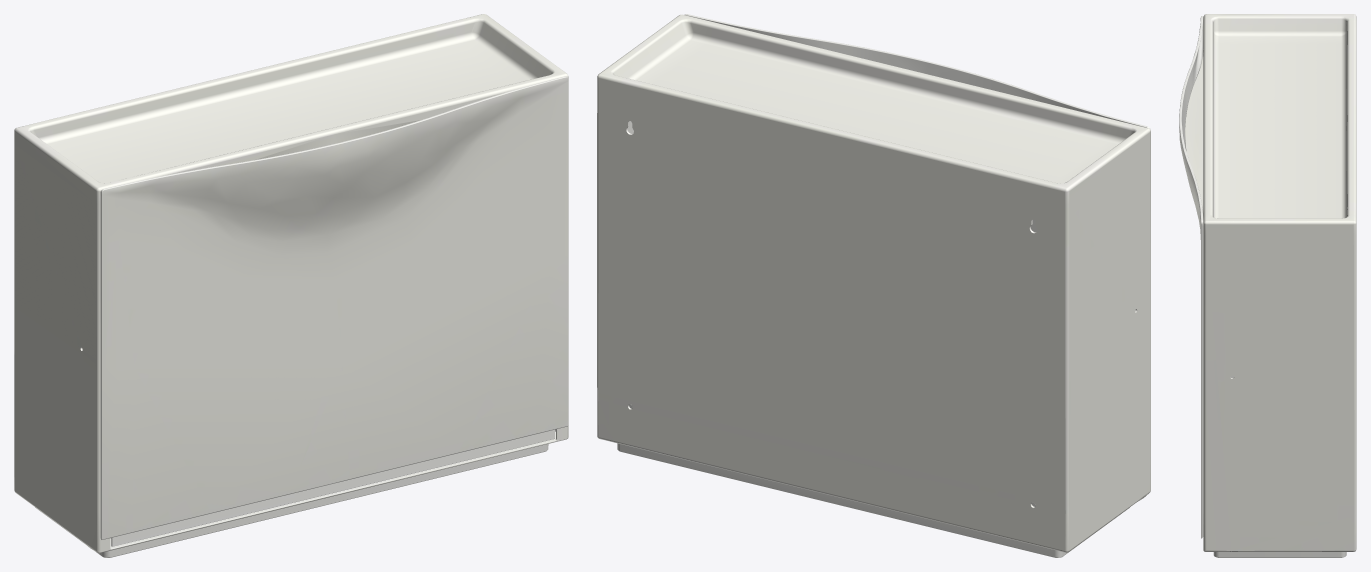
The model's file is trones_szafka_na_buty_00397307.glb.
3 renders of one model, left to right at view 1: azimuth 30°, elevation 25°; view 2: azimuth 150°, elevation 25°; view 3: azimuth 270°, elevation 25°, orthographic. The views are drawn at different scales.
Visible parts, largest first — view 1: trones_szafka_na_buty_00397307; view 2: trones_szafka_na_buty_00397307; view 3: trones_szafka_na_buty_00397307.
Part boxes in pixels (<box>): trones_szafka_na_buty_00397307: <box>14,14,568,557</box>; trones_szafka_na_buty_00397307: <box>597,14,1150,557</box>; trones_szafka_na_buty_00397307: <box>1179,14,1356,557</box>.
Size of the model in its own units: 0.5131 by 0.3918 by 0.1841.
1 material, 1 textured.
